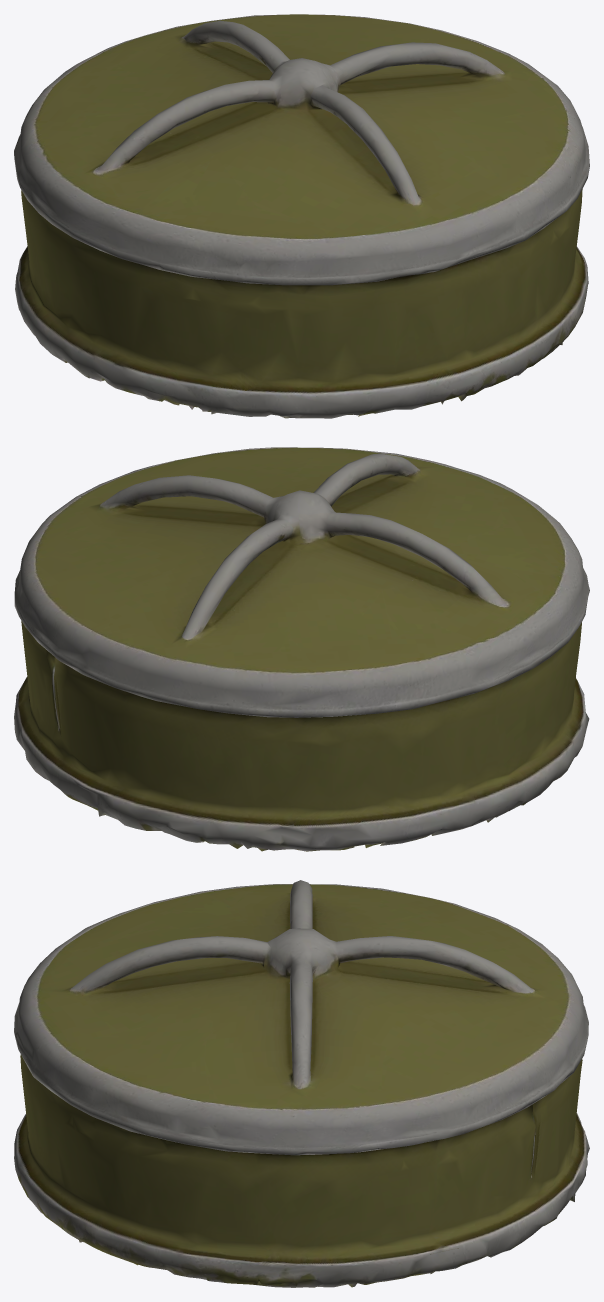
File: gunpowder_tin.glb
3 renders of one model, top to bottom at view 1: azimuth 30°, elevation 25°; view 2: azimuth 150°, elevation 25°; view 3: azimuth 270°, elevation 25°, orthographic.
Parts seen in each view (by area): view 1: gunpowder_tin; view 2: gunpowder_tin; view 3: gunpowder_tin.
Part boxes in pixels (x1,y1,x2,y2): gunpowder_tin: (14,14,589,418); gunpowder_tin: (14,447,589,851); gunpowder_tin: (14,880,589,1287).
Bounding box in the file's own units: 0.15 × 0.07 × 0.1497.
Materials: 1 (1 with a texture image).
